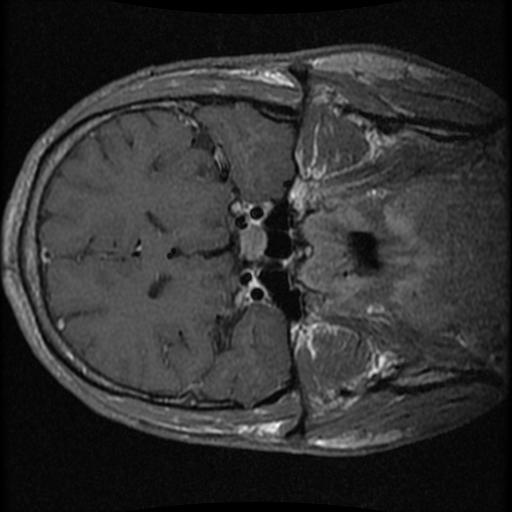pituitary tumour: (239, 222, 266, 263)
